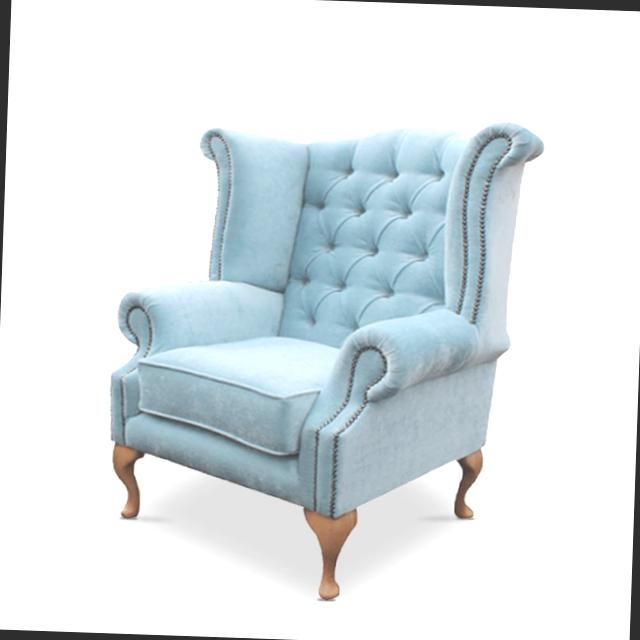obstacle: (66, 90, 560, 626)
